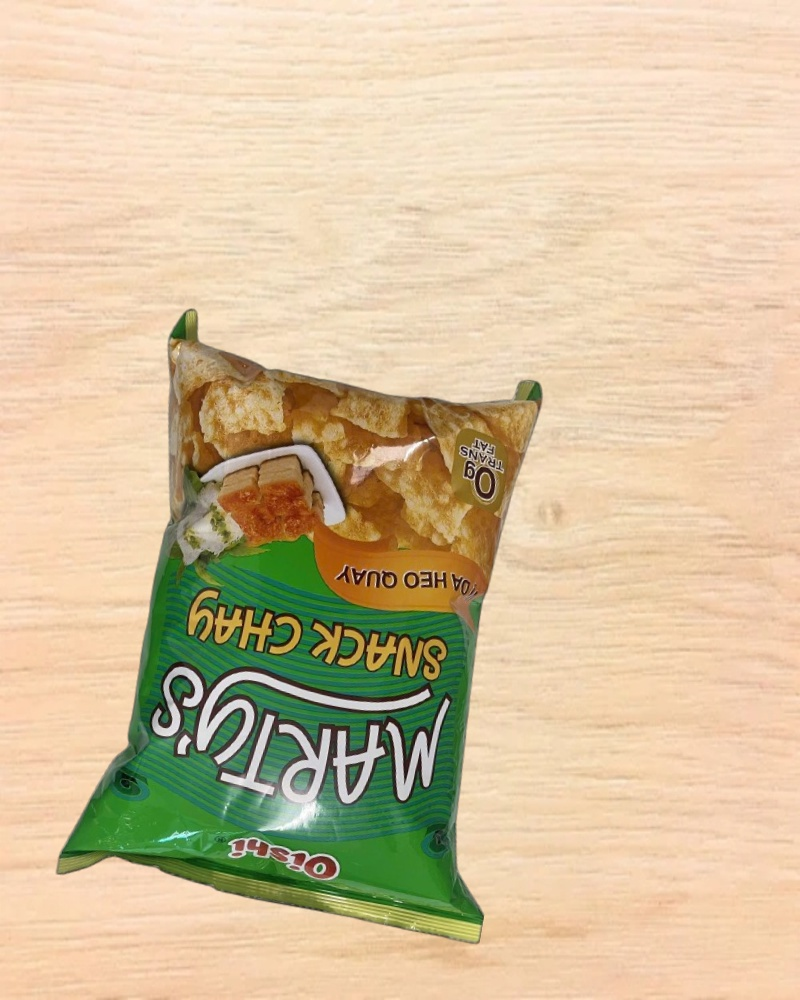Snack chay: (76, 309, 578, 949)
